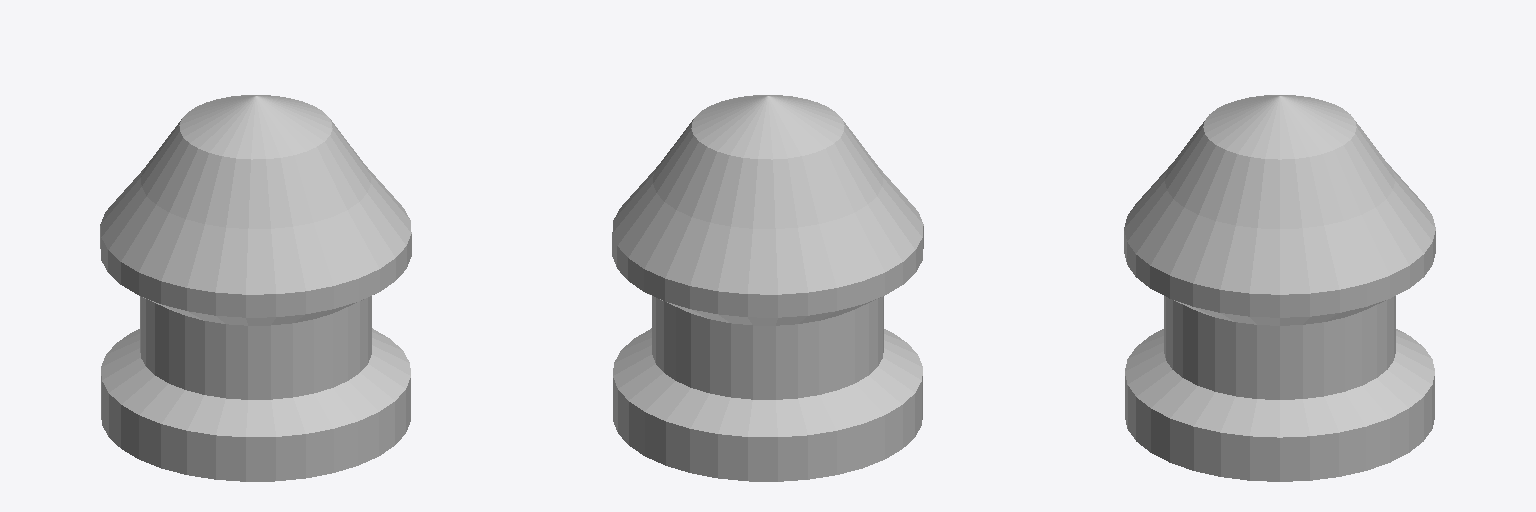
The model's file is piece.obj.
3 views of the same model, side by side, from view 1: azimuth 30°, elevation 25°; view 2: azimuth 150°, elevation 25°; view 3: azimuth 270°, elevation 25° (orthographic).
Parts seen in each view (by area): view 1: Cylinder; view 2: Cylinder; view 3: Cylinder.
Part boxes in pixels (bbox=[...]): Cylinder: bbox=[100, 95, 411, 481]; Cylinder: bbox=[612, 95, 923, 481]; Cylinder: bbox=[1124, 95, 1435, 481].
Bounding box in the file's own units: 1.13 × 1.29 × 1.13.